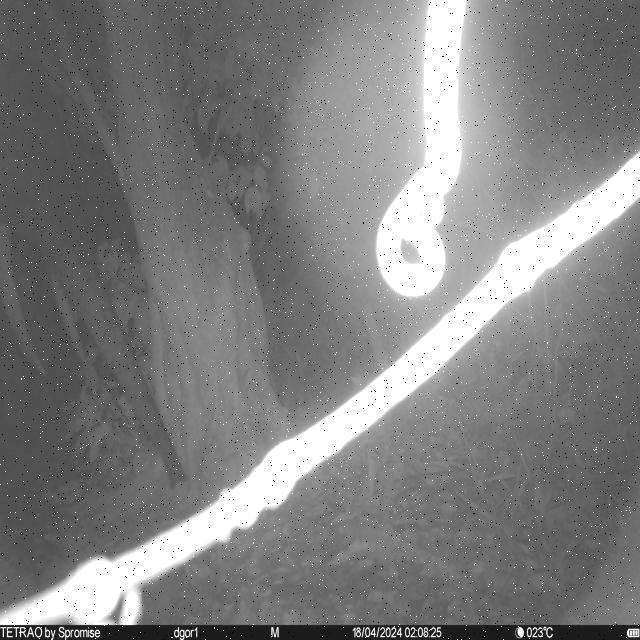elephant: (0, 48, 190, 493)
tusk: (0, 225, 50, 378), (49, 268, 92, 372)
